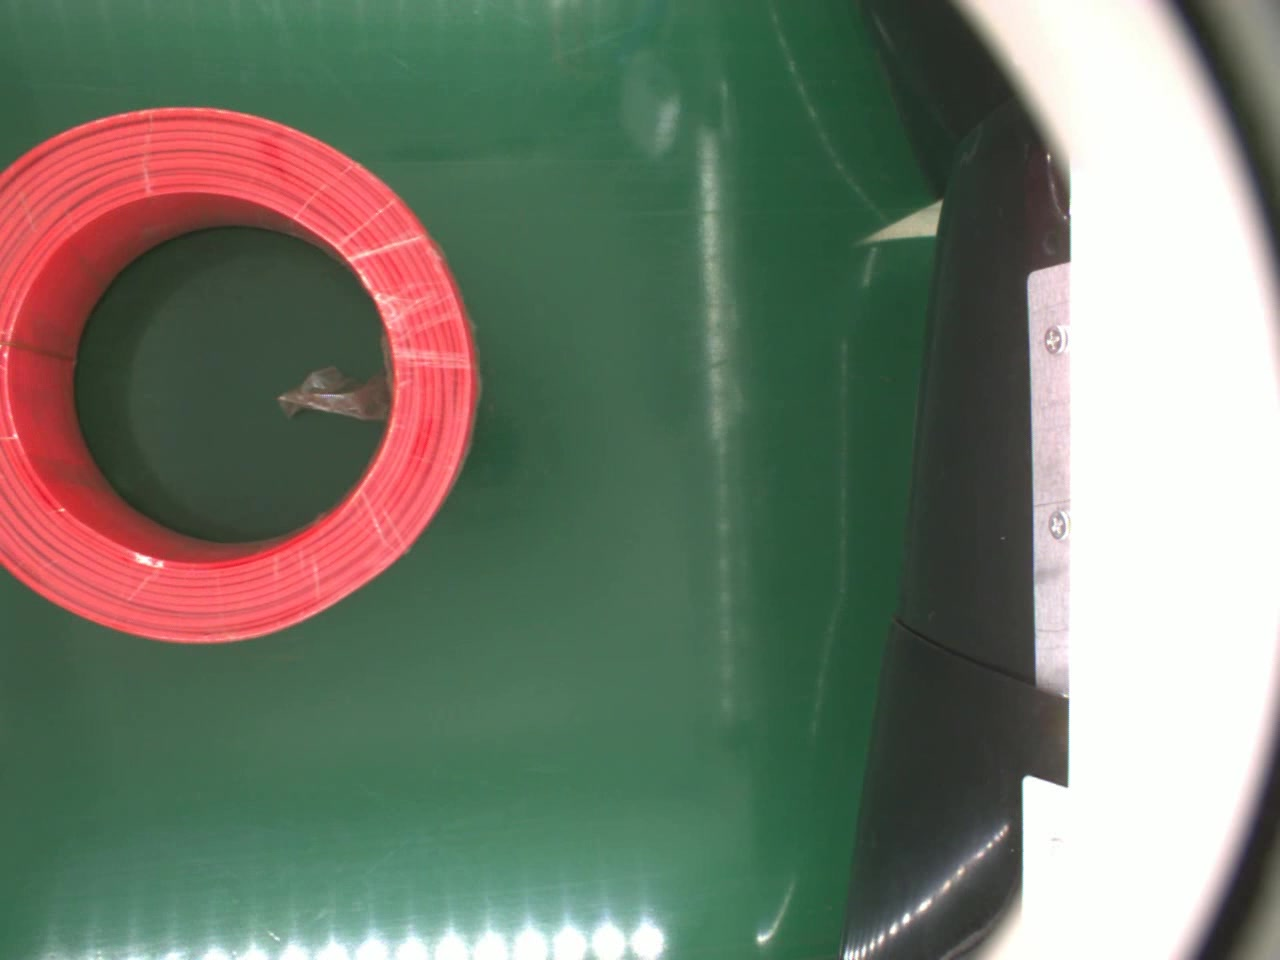red: (0, 101, 481, 647)
